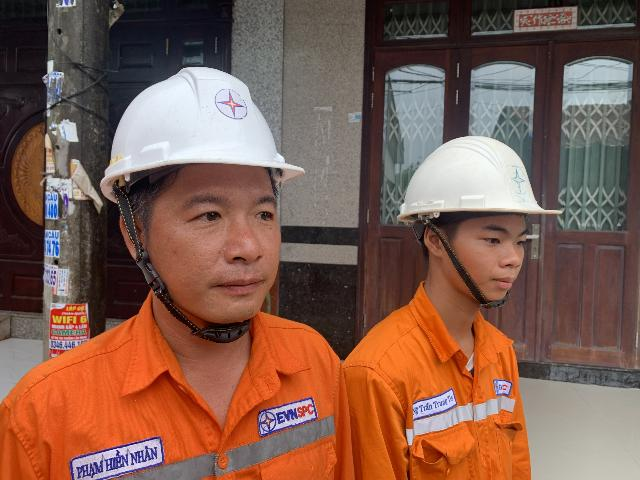helmet: (83, 48, 322, 224), (380, 113, 572, 242)
